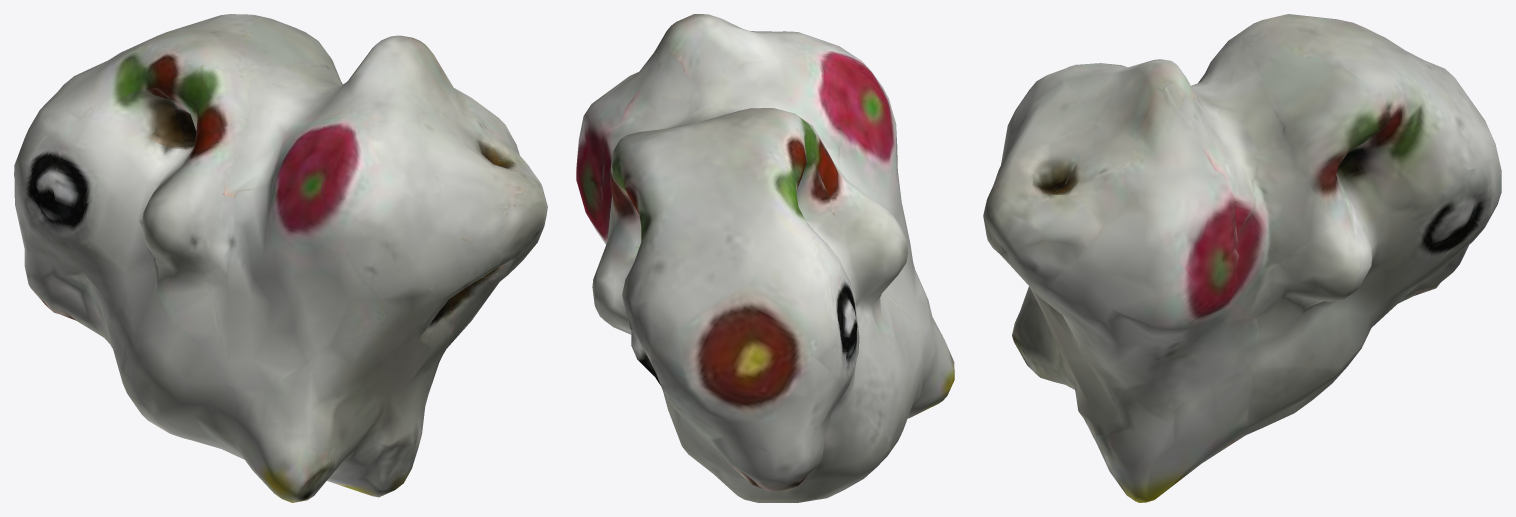
The model's file is hall.glb.
3 renders of one model, left to right at view 1: azimuth 30°, elevation 25°; view 2: azimuth 150°, elevation 25°; view 3: azimuth 270°, elevation 25°, orthographic. The views are drawn at different scales.
Size of the model in its own units: 0.3145 by 0.3582 by 0.3751.
1 material, 1 textured.
